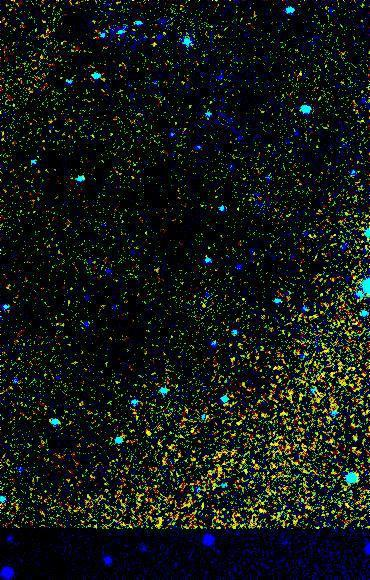star: (131, 415, 161, 445)
